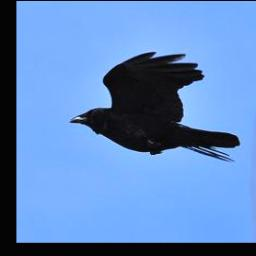Crow: (69, 51, 241, 164)
